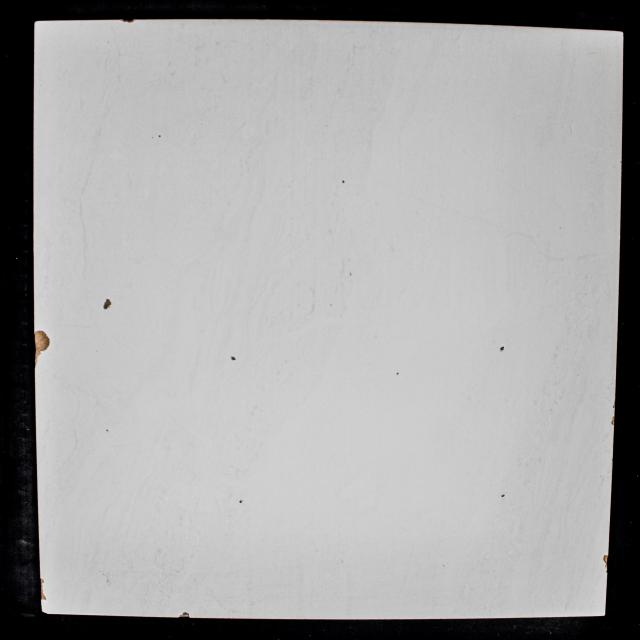edge-chipping: (33, 330, 51, 352), (39, 577, 46, 602), (34, 352, 42, 367), (177, 611, 191, 619), (120, 19, 136, 23), (603, 555, 608, 564), (611, 416, 615, 426), (605, 564, 608, 574), (613, 400, 615, 408)
hole: (103, 298, 112, 310), (239, 498, 243, 504), (500, 346, 504, 352), (231, 356, 236, 360), (501, 494, 505, 498), (396, 372, 399, 375), (342, 180, 345, 183), (158, 135, 161, 137)
